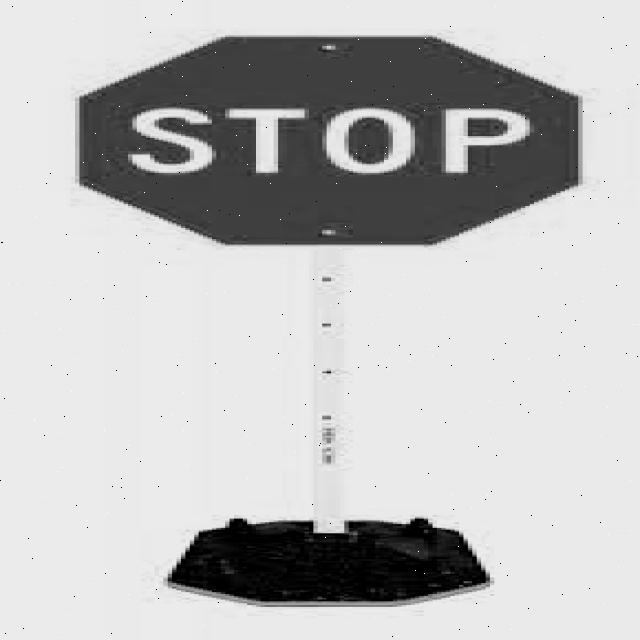stop sign: (76, 30, 584, 249)
